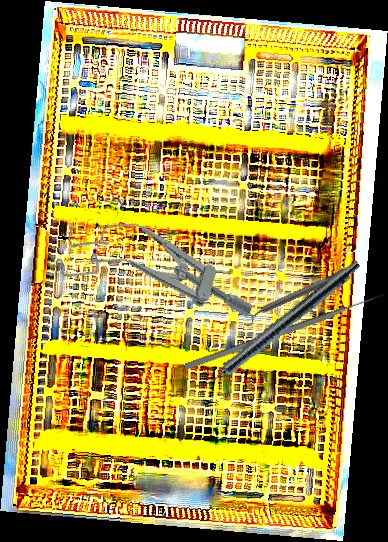Fixation Ring: (238, 264, 351, 328)
Handpiece: (191, 254, 364, 399)
Pusher: (184, 290, 388, 371)
Speculum: (51, 204, 266, 332)
